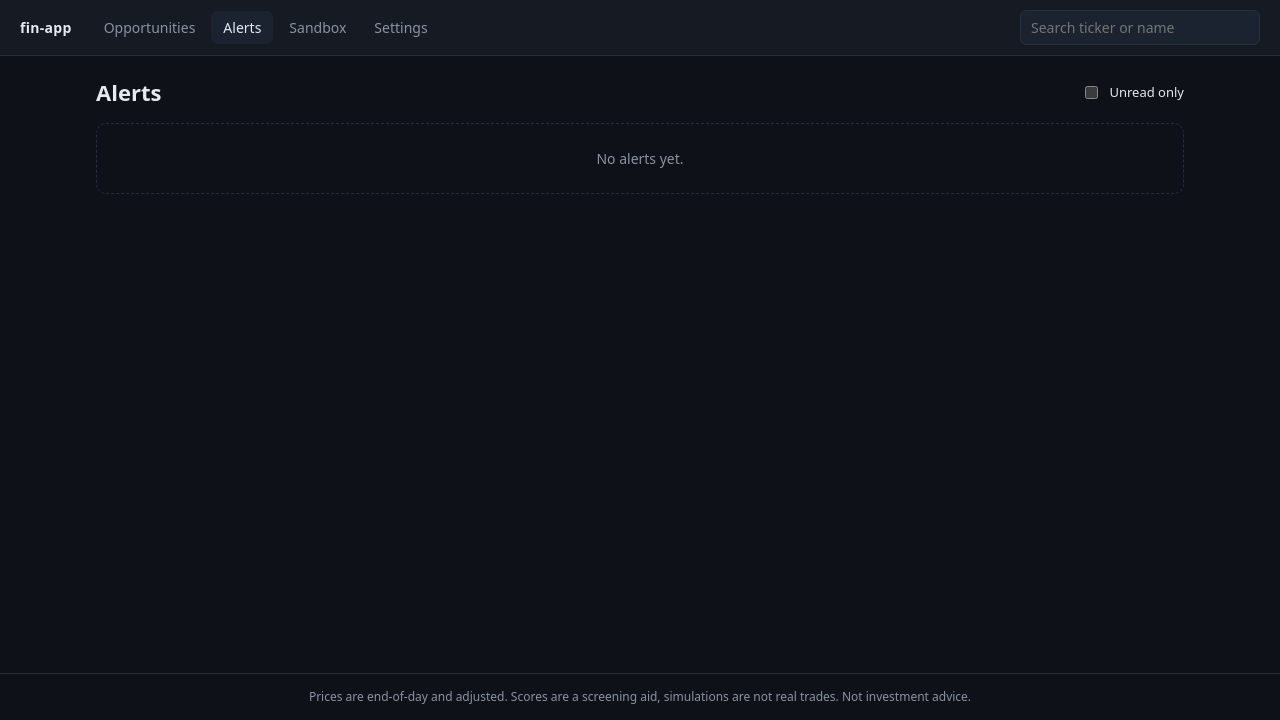
Test: unread-only is sent to the API and an empty feed is explained
Expected: the text "No alerts yet." is shown, [96,123,1184,194]
Step 1. Click the checkbox labelled "Unread only" → [1092, 92], box [1086,86,1098,99]
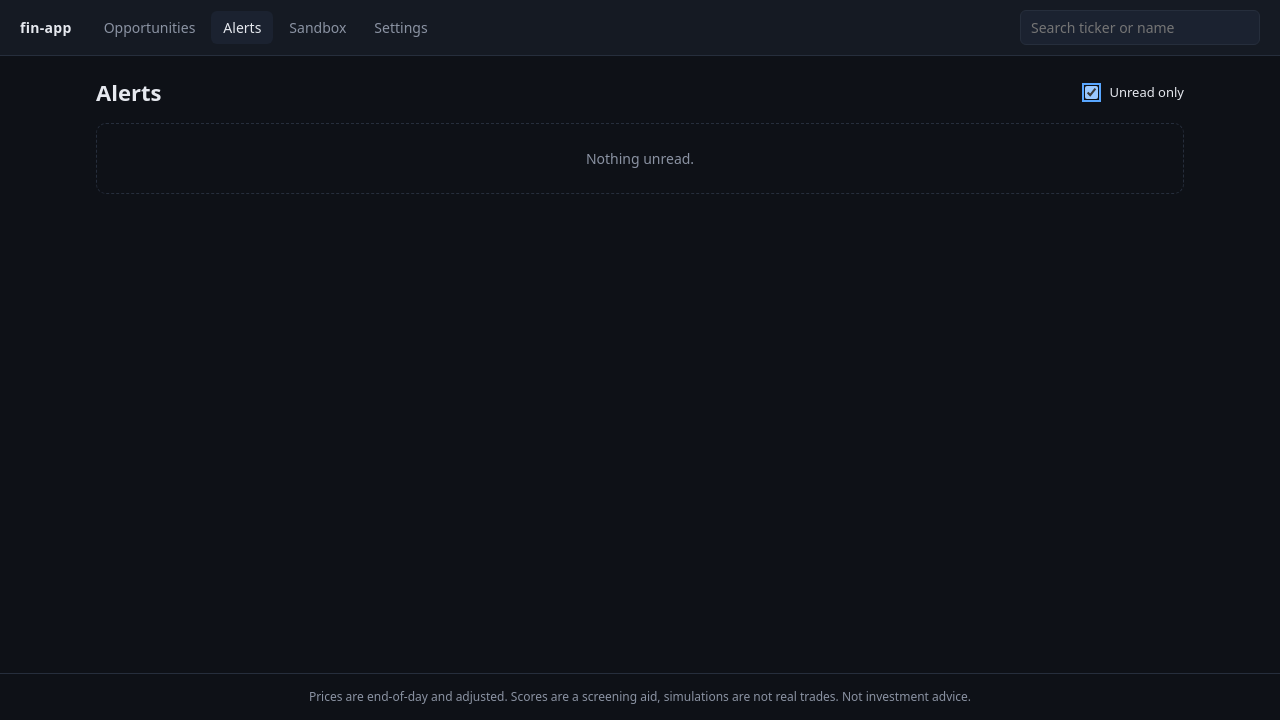
Expected: the text "Nothing unread." is shown, [96,123,1184,194]
